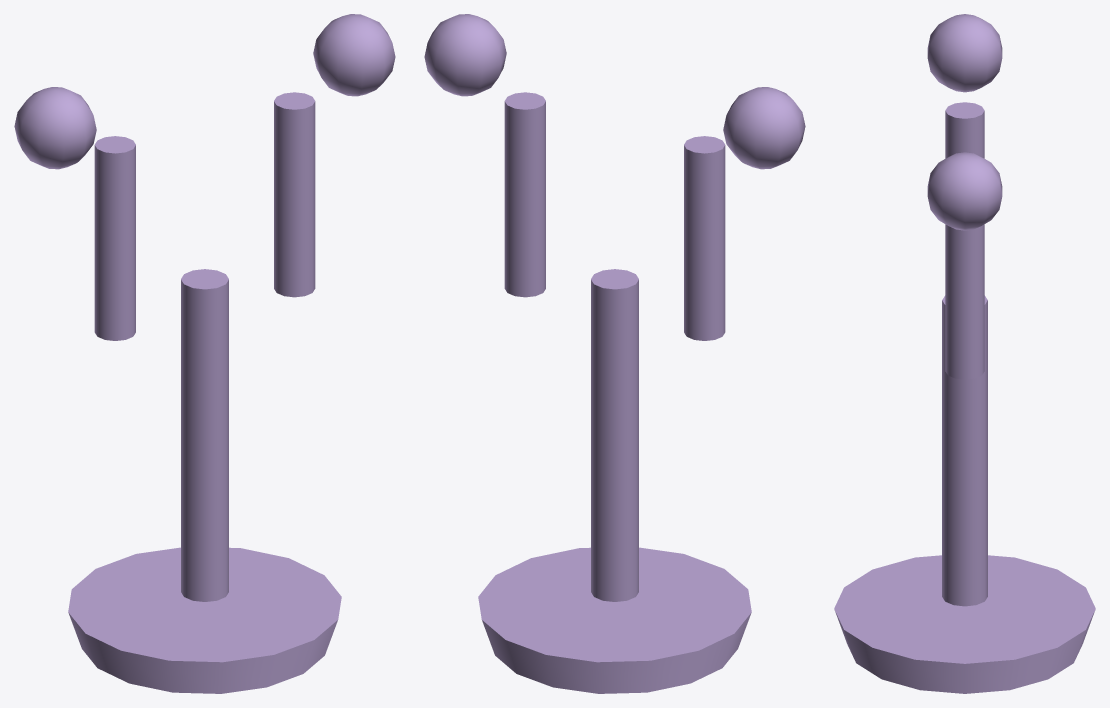
The model's file is stethoscope.glb.
3 renders of one model, left to right at view 1: azimuth 30°, elevation 25°; view 2: azimuth 150°, elevation 25°; view 3: azimuth 270°, elevation 25°, orthographic. The views are drawn at different scales.
Bounding box in the file's own units: 0.62 × 0.94 × 0.4.
